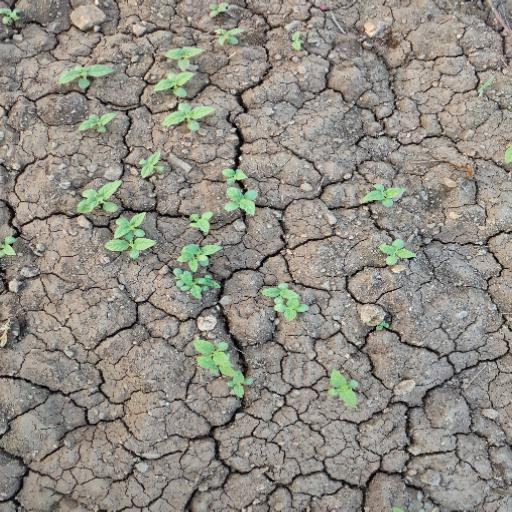crop: (69, 175, 157, 263), (187, 338, 258, 400), (171, 239, 229, 299), (217, 166, 262, 219), (54, 55, 118, 89), (373, 227, 415, 275), (264, 281, 309, 325), (327, 366, 368, 412), (359, 178, 405, 213), (68, 106, 119, 136), (157, 104, 215, 126)
